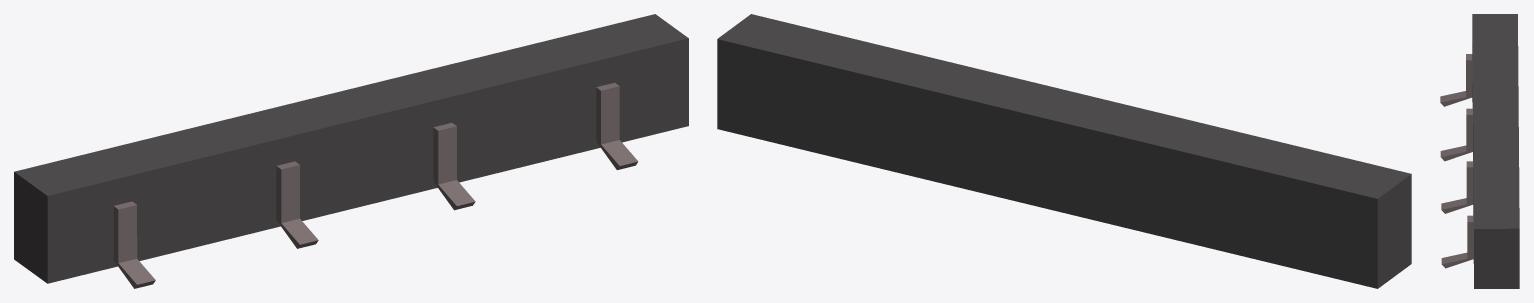
File: SM_Accessories_Hanger_Kitchen_2_03.fbx
3 views of the same model, side by side, from view 1: azimuth 30°, elevation 25°; view 2: azimuth 150°, elevation 25°; view 3: azimuth 270°, elevation 25° (orthographic). The views are drawn at different scales.
Parts seen in each view (by area): view 1: SM_Accessories_Hanger_Kitchen_2_03; view 2: SM_Accessories_Hanger_Kitchen_2_03; view 3: SM_Accessories_Hanger_Kitchen_2_03.
Boxes of the visible parts, box(x1,y1,x2,y2) form: SM_Accessories_Hanger_Kitchen_2_03: box(14, 14, 688, 288); SM_Accessories_Hanger_Kitchen_2_03: box(717, 14, 1411, 288); SM_Accessories_Hanger_Kitchen_2_03: box(1440, 14, 1519, 288).
Size of the model in its own units: 33.45 by 4.68 by 5.22.
